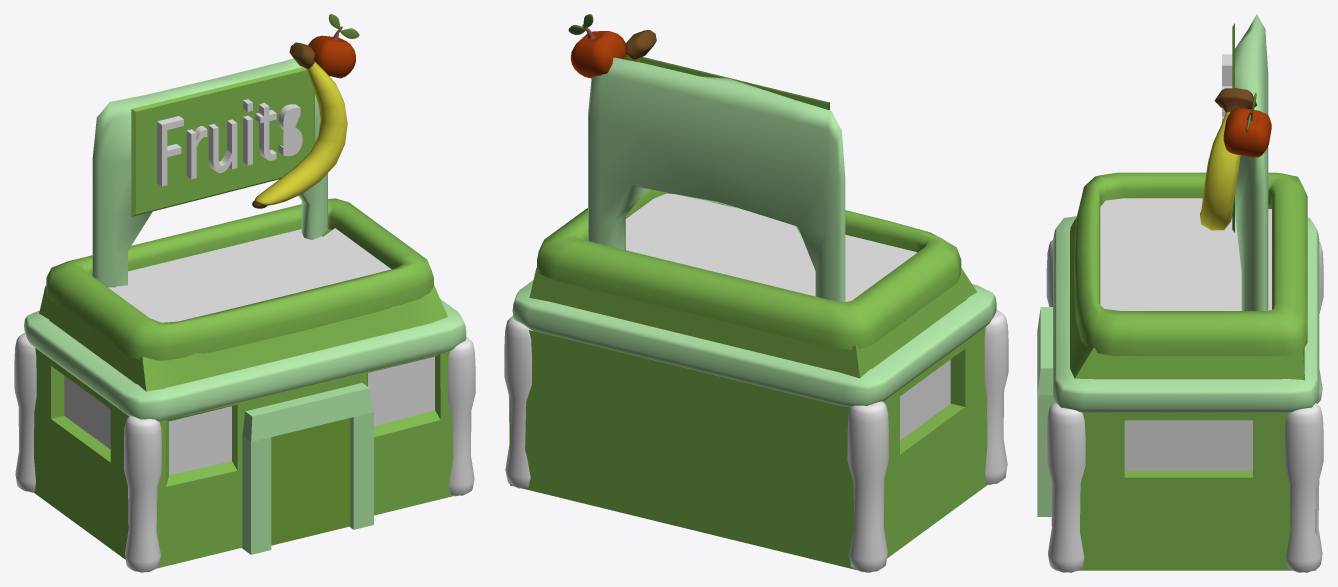
Rendered from Fruitsshop.fbx.
3 renders of one model, left to right at view 1: azimuth 30°, elevation 25°; view 2: azimuth 150°, elevation 25°; view 3: azimuth 270°, elevation 25°, orthographic. The views are drawn at different scales.
Visible parts, largest first — view 1: polySurface8, polySurface1, polySurface7, polySurface6, polySurface5, pCube8, pCube1 (×2), typeMesh2, pCylinder6, pCylinder3, pCylinder5; view 2: polySurface8, polySurface5, polySurface1, polySurface7, pCylinder5, pCylinder4, pCylinder6, pCube1 (×2), polySurface6; view 3: polySurface8, polySurface1, polySurface7, polySurface5, pCylinder3, pCylinder4, pCube1 (×2), pCube8, typeMesh2, pCylinder6, pCylinder5.
Part boxes in pixels (x1,y1,x2,y2): polySurface8: [33, 228, 453, 568]; polySurface1: [46, 198, 433, 360]; polySurface7: [24, 299, 466, 421]; polySurface6: [131, 67, 314, 216]; polySurface5: [92, 58, 327, 286]; pCube8: [242, 383, 373, 554]; pCube1 (×2): [252, 26, 355, 208]; typeMesh2: [157, 99, 302, 186]; pCylinder6: [124, 415, 161, 572]; pCylinder3: [438, 337, 475, 496]; pCylinder5: [14, 333, 36, 492]; polySurface8: [510, 193, 987, 572]; polySurface5: [588, 57, 845, 302]; polySurface1: [537, 189, 961, 349]; polySurface7: [512, 280, 996, 407]; pCylinder5: [847, 401, 888, 572]; pCylinder4: [504, 316, 532, 488]; pCylinder6: [984, 310, 1008, 485]; pCube1 (×2): [570, 24, 656, 78]; polySurface6: [640, 57, 829, 110]; polySurface8: [1070, 198, 1316, 570]; polySurface1: [1074, 172, 1307, 355]; polySurface7: [1053, 216, 1319, 413]; polySurface5: [1235, 14, 1268, 310]; pCylinder3: [1046, 402, 1085, 572]; pCylinder4: [1285, 403, 1323, 572]; pCube1 (×2): [1200, 88, 1271, 230]; pCube8: [1037, 307, 1054, 516]; typeMesh2: [1222, 54, 1232, 122]; pCylinder6: [1046, 240, 1053, 306]; pCylinder5: [1316, 242, 1323, 403].
Bounding box in the file's own units: 30.76 × 36.04 × 20.43.
